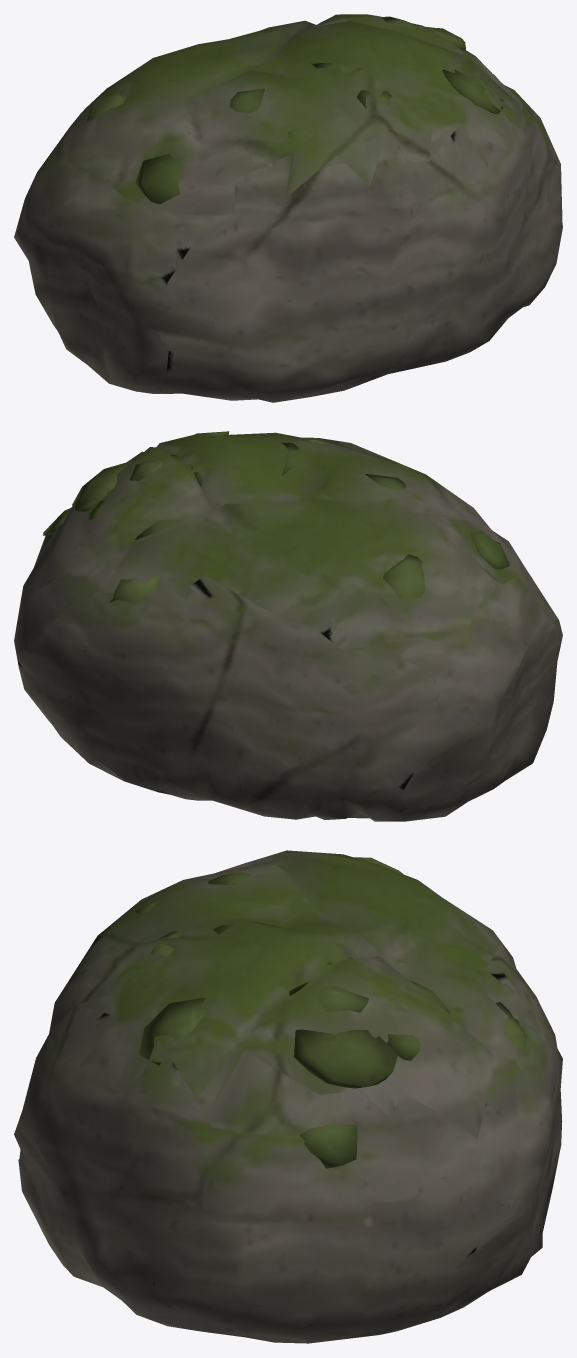
The model's file is kit_rock_lod1.glb.
The picture shows the model from 3 angles, top to bottom: view 1: azimuth 30°, elevation 25°; view 2: azimuth 150°, elevation 25°; view 3: azimuth 270°, elevation 25°; orthographic projection. The views are drawn at different scales.
Parts seen in each view (by area): view 1: Rock_lod1; view 2: Rock_lod1; view 3: Rock_lod1.
Boxes of the visible parts, x1,y1,x2,y2 form: Rock_lod1: (14, 14, 562, 402); Rock_lod1: (14, 431, 562, 821); Rock_lod1: (14, 850, 562, 1343).
Bounding box in the file's own units: 1.88 × 1.08 × 1.5.
Materials: 1 (1 with a texture image).
